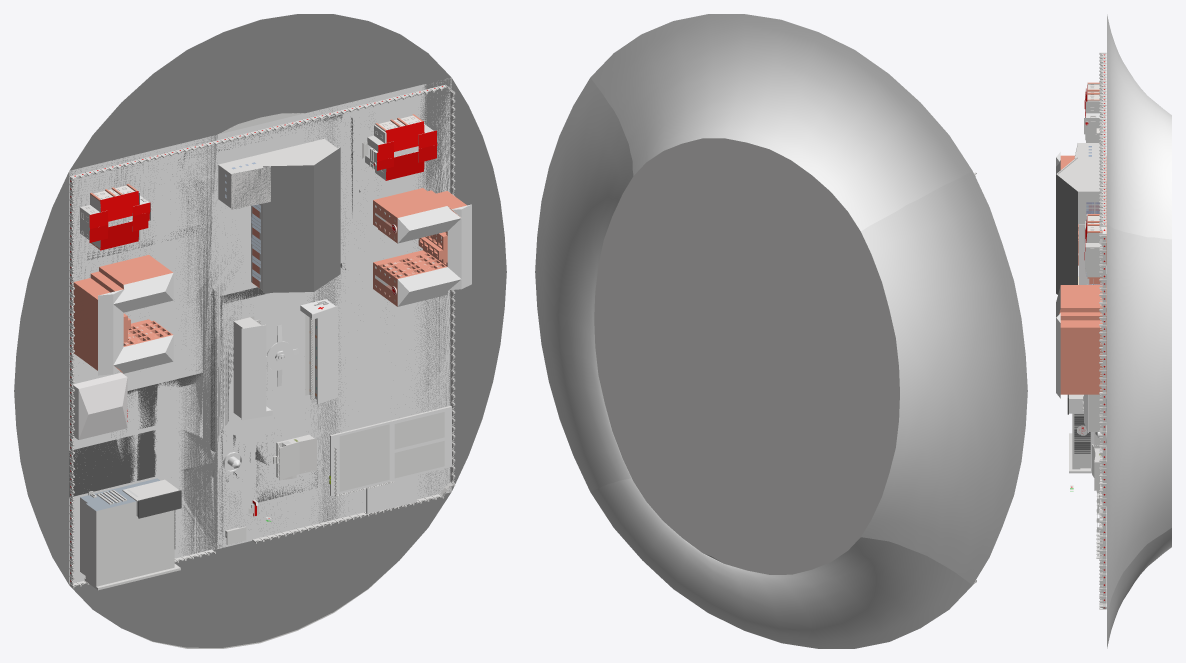
3 renders of one model, left to right at view 1: azimuth 30°, elevation 25°; view 2: azimuth 150°, elevation 25°; view 3: azimuth 270°, elevation 25°, orthographic. The views are drawn at different scales.
Visible parts, largest first — view 1: object 1, object 801, object 812, Vocational center_002.005, Vocational center_001.005, Vocational center_001.001, Vocational center_002.001, Group_877.002, Group_944.002, Group_943.002, Officers suite NRCS_003.001, Group_878.002; view 2: object 1; view 3: object 1, object 801, Officers suite NRCS_003.001, Officers suite NRCS_001.001, Vocational center_001.001, Group_808.001.
Boxes of the visible parts, <box> form: object 1: <box>14,14,506,648</box>; object 801: <box>72,162,466,439</box>; object 812: <box>69,114,439,545</box>; Vocational center_002.005: <box>241,325,272,420</box>; Vocational center_001.005: <box>312,306,337,403</box>; Vocational center_001.001: <box>305,305,337,404</box>; Vocational center_002.001: <box>233,316,272,419</box>; Group_877.002: <box>100,191,139,221</box>; Group_944.002: <box>385,121,424,151</box>; Group_943.002: <box>385,151,424,180</box>; Officers suite NRCS_003.001: <box>362,124,433,179</box>; Group_878.002: <box>100,221,138,250</box>; object 1: <box>535,14,1027,648</box>; object 1: <box>1056,14,1171,648</box>; object 801: <box>1059,146,1106,507</box>; Officers suite NRCS_003.001: <box>1084,214,1106,277</box>; Officers suite NRCS_001.001: <box>1084,83,1099,142</box>; Vocational center_001.001: <box>1088,394,1102,432</box>; Group_808.001: <box>1079,224,1096,284</box>.
Size of the model in its own units: 71.03 by 85.88 by 15.31.
